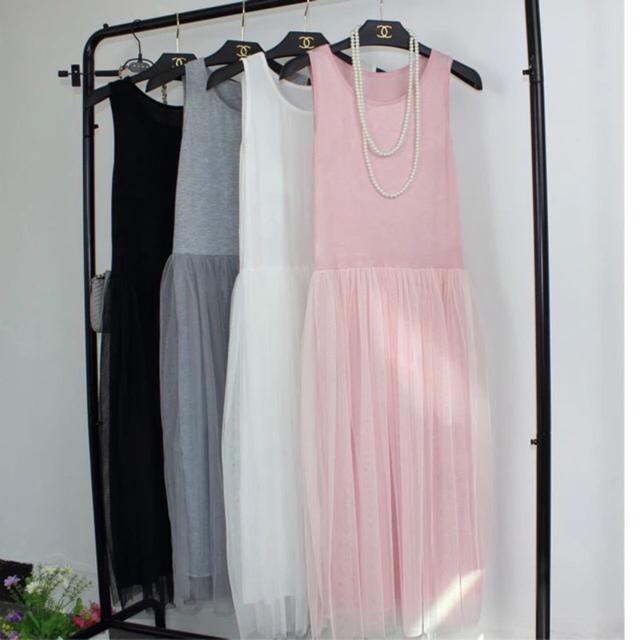Dresses: (307, 30, 491, 638)
